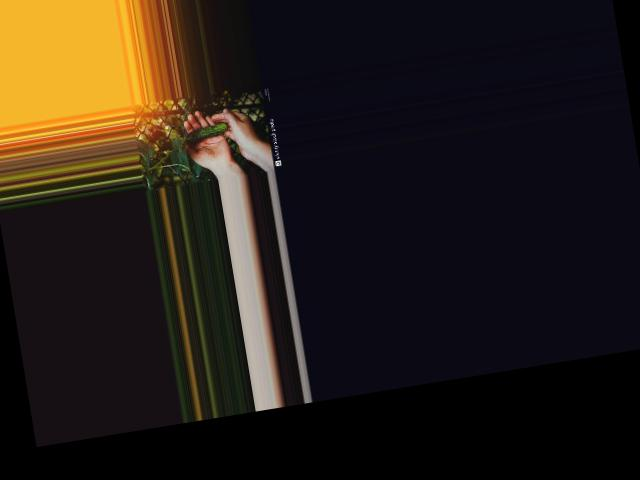cucumber: (184, 121, 229, 144)
